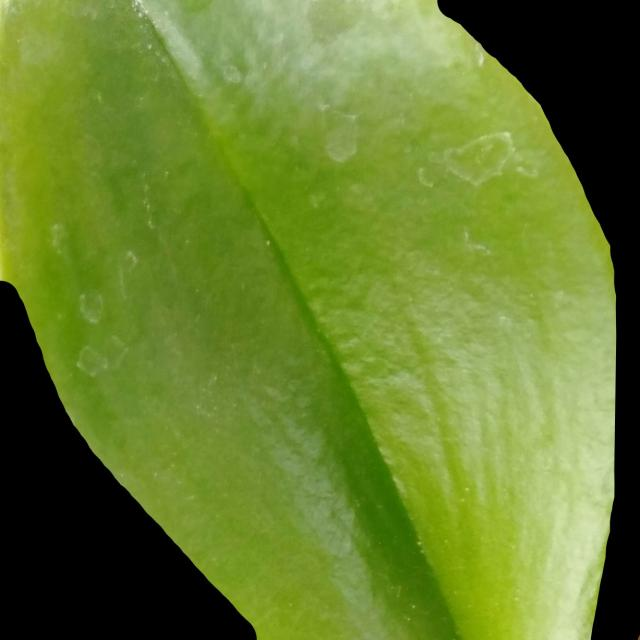mite: (216, 47, 367, 173), (71, 285, 130, 380), (74, 332, 128, 379), (321, 111, 360, 164), (74, 343, 108, 379), (76, 288, 105, 325), (221, 62, 243, 86)
spots: (3, 1, 618, 636)
